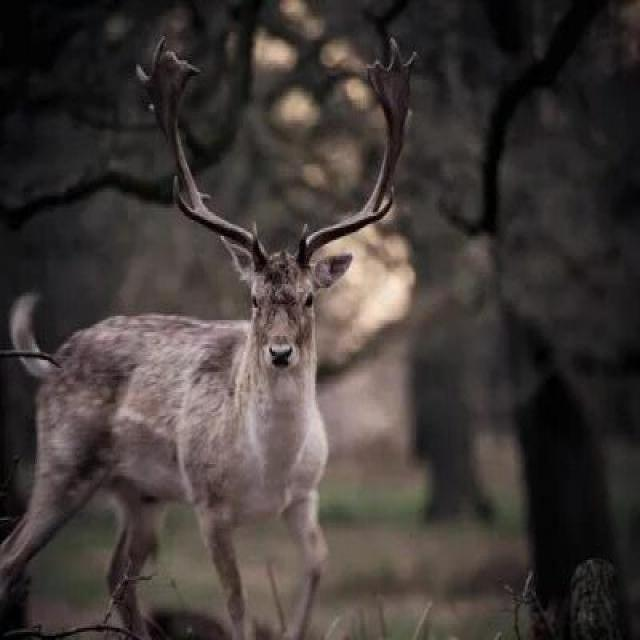deer: (14, 90, 454, 595)
